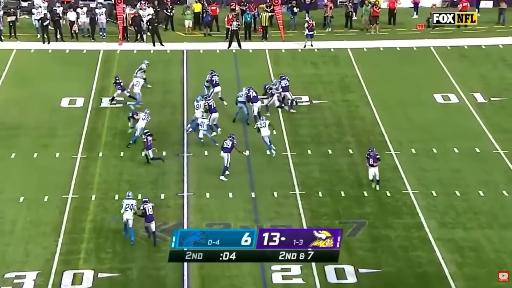Helmet: (264, 85, 272, 93), (135, 72, 144, 79), (132, 109, 139, 118), (196, 95, 204, 101), (126, 192, 133, 198), (143, 130, 150, 136), (143, 60, 149, 66), (142, 198, 149, 203), (280, 74, 286, 79), (35, 4, 41, 9), (210, 70, 216, 75), (205, 95, 211, 100), (201, 112, 206, 118), (228, 134, 234, 139), (260, 116, 266, 121), (144, 110, 150, 115), (272, 79, 278, 84), (368, 148, 374, 152), (247, 87, 253, 91), (242, 88, 247, 92), (98, 3, 102, 8), (115, 76, 119, 81), (56, 3, 60, 7)
Jersey: (140, 202, 154, 223), (122, 199, 136, 218), (255, 120, 270, 136), (366, 153, 380, 167), (222, 139, 236, 153), (205, 99, 217, 114), (132, 78, 144, 93), (247, 90, 260, 103), (138, 113, 150, 127), (208, 74, 220, 88), (272, 80, 283, 95), (134, 64, 147, 76), (95, 8, 106, 22), (77, 7, 88, 21), (194, 99, 204, 113), (280, 77, 289, 92), (198, 118, 208, 131), (143, 136, 152, 150), (114, 80, 125, 91), (236, 92, 246, 104), (32, 8, 42, 19), (128, 111, 139, 120), (55, 7, 63, 17), (269, 87, 275, 97)
Player: (220, 135, 247, 181), (138, 198, 156, 246), (127, 110, 150, 147), (121, 192, 137, 245), (255, 117, 275, 157), (205, 71, 227, 106), (185, 95, 205, 133), (195, 113, 218, 145), (143, 130, 164, 163), (205, 96, 221, 135), (279, 74, 295, 112), (263, 85, 283, 115), (233, 88, 249, 125), (366, 148, 380, 190), (246, 87, 262, 123), (110, 76, 130, 104), (128, 74, 144, 106), (134, 61, 151, 87), (77, 3, 90, 36), (31, 3, 43, 38), (95, 3, 106, 38), (204, 70, 215, 94), (128, 111, 139, 132), (54, 3, 63, 23)
